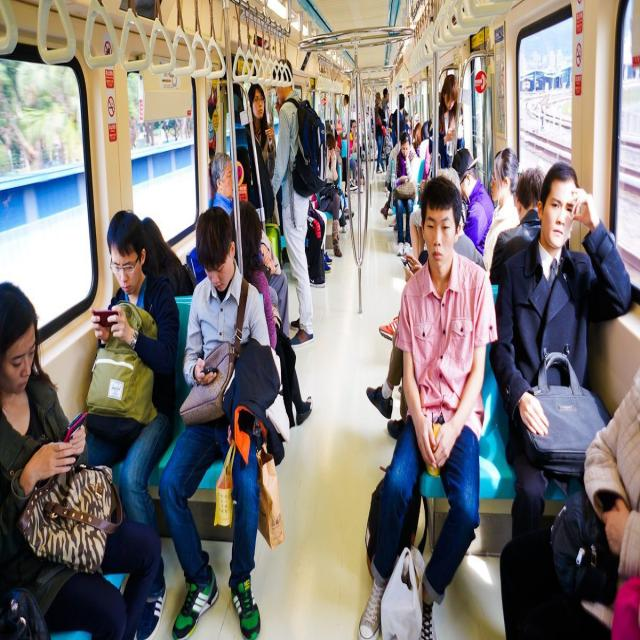body: (355, 172, 501, 639), (156, 200, 292, 639), (0, 280, 163, 640), (488, 157, 634, 542), (84, 206, 182, 640), (497, 355, 640, 639), (488, 162, 591, 554), (363, 164, 489, 442), (228, 200, 314, 430), (210, 151, 290, 337), (268, 58, 314, 348), (481, 145, 525, 281), (141, 210, 198, 304), (451, 148, 495, 257), (389, 129, 419, 257), (428, 72, 466, 169), (317, 131, 343, 258), (247, 83, 278, 182), (385, 118, 416, 211), (304, 200, 334, 290), (328, 132, 355, 221), (410, 118, 434, 215), (371, 91, 387, 175), (348, 119, 365, 194), (341, 155, 367, 199), (391, 92, 409, 149), (382, 110, 395, 173), (323, 116, 343, 156), (361, 104, 375, 160), (381, 86, 390, 162), (342, 93, 349, 138), (342, 130, 348, 141)
